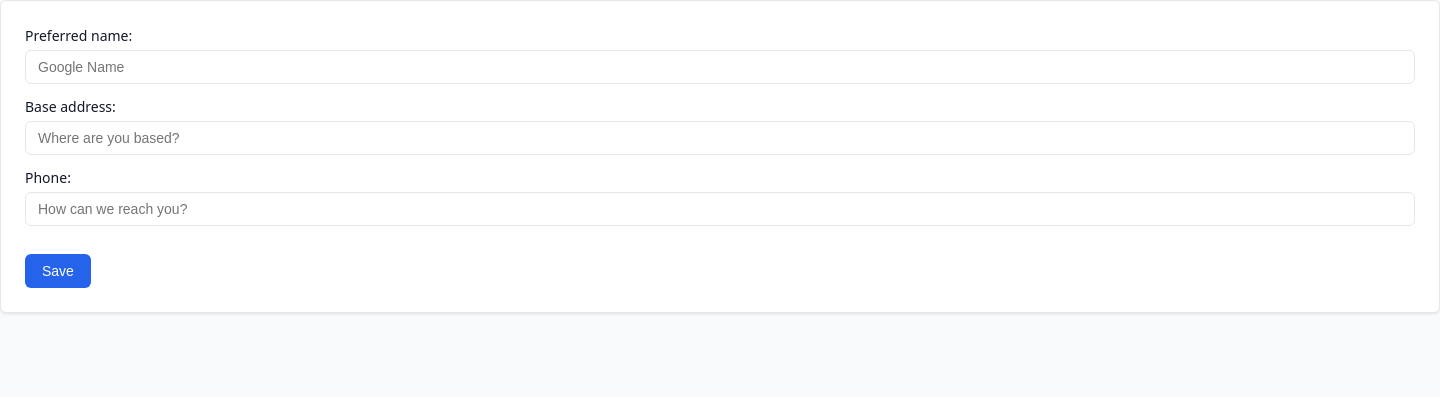
Test: ProfileForm › names the technician's address as "base address" when required and blank
Step 1. Click the button "Save" → x=58, y=271, box [25, 254, 91, 288]
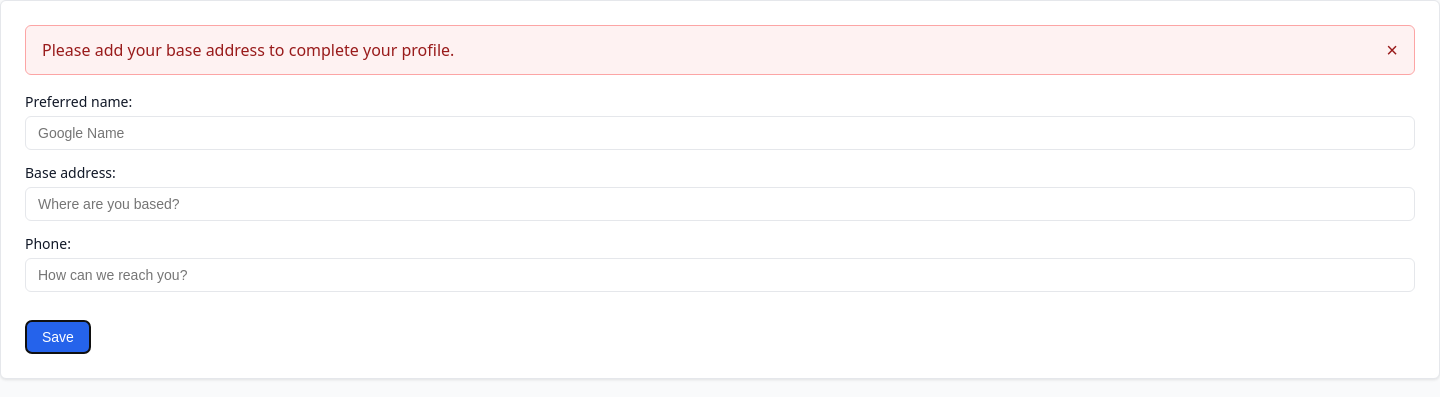
Check: the text "Please add your base address to complete your profile." is shown, box [42, 38, 454, 62]
